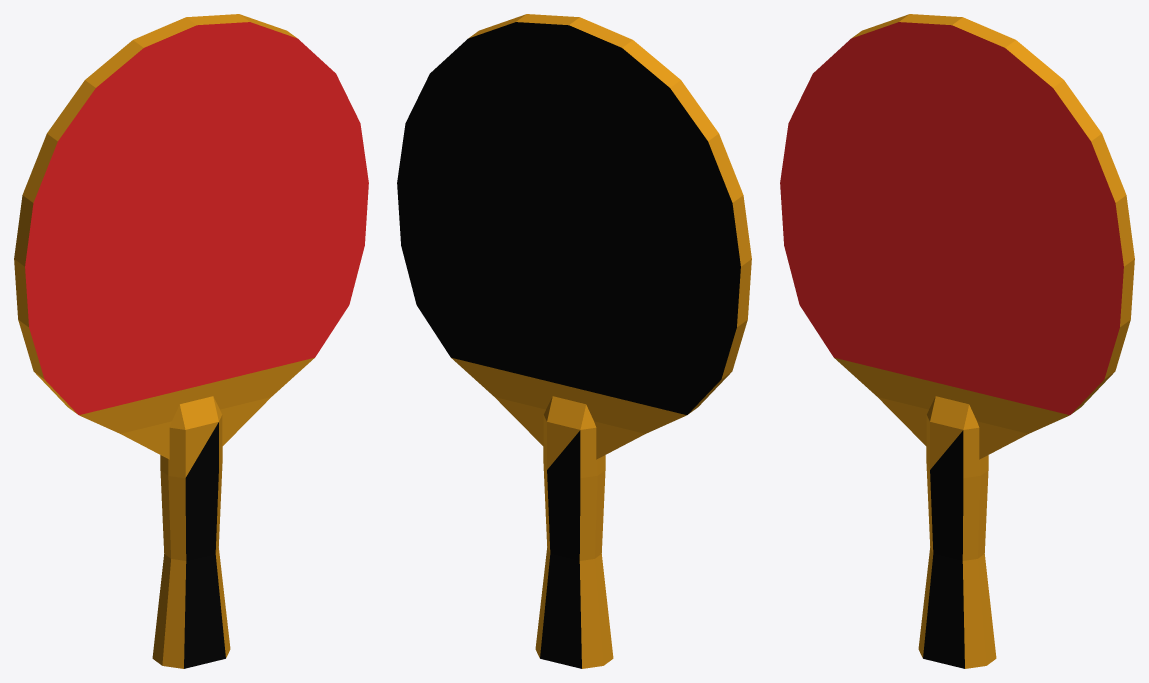
Rendered from Pong_Racket_4.fbx.
3 views of the same model, side by side, from view 1: azimuth 30°, elevation 25°; view 2: azimuth 150°, elevation 25°; view 3: azimuth 330°, elevation 25° (orthographic).
Parts seen in each view (by area): view 1: Pong_Racket_4; view 2: Pong_Racket_4; view 3: Pong_Racket_4.
Part boxes in pixels (x1,y1,x2,y2): Pong_Racket_4: [14, 14, 368, 668]; Pong_Racket_4: [397, 14, 751, 668]; Pong_Racket_4: [780, 14, 1134, 668].
Size of the model in its own units: 22.17 by 38.99 by 3.01.
